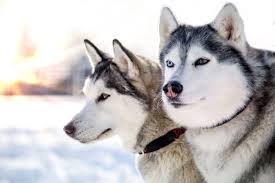Bulldog: (151, 8, 275, 181), (57, 39, 148, 159)
